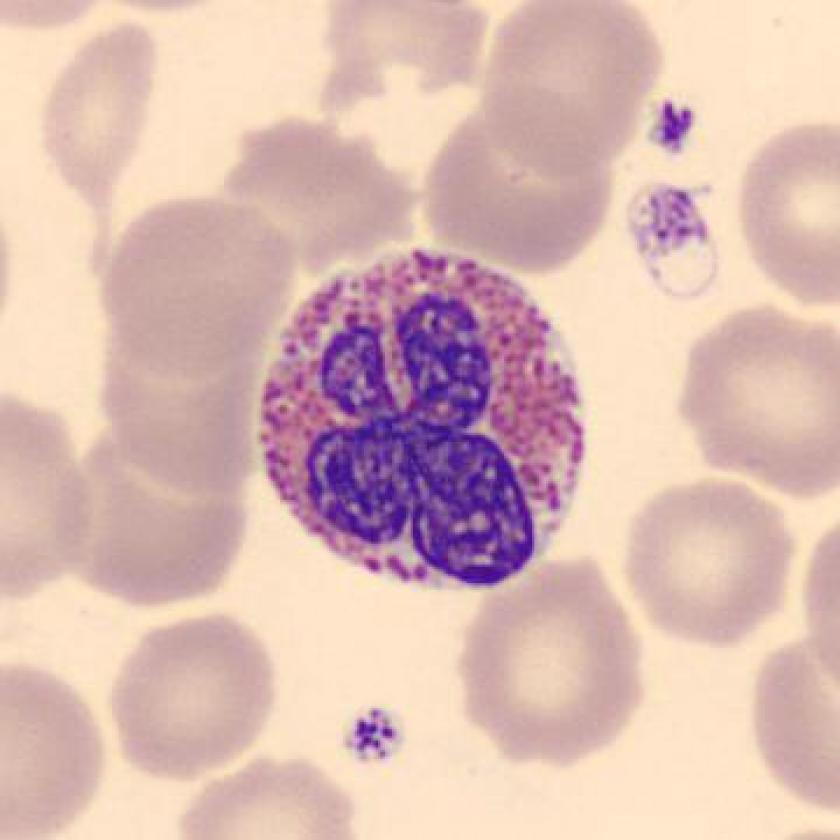eosinophil: (244, 240, 598, 608)
